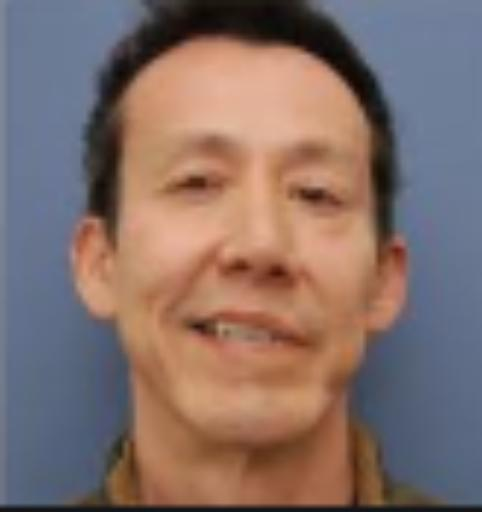left_eye: (289, 186, 348, 215)
left_lip_corner: (282, 324, 319, 356)
right_eye: (168, 175, 228, 204)
right_lip_corner: (172, 314, 216, 341)
